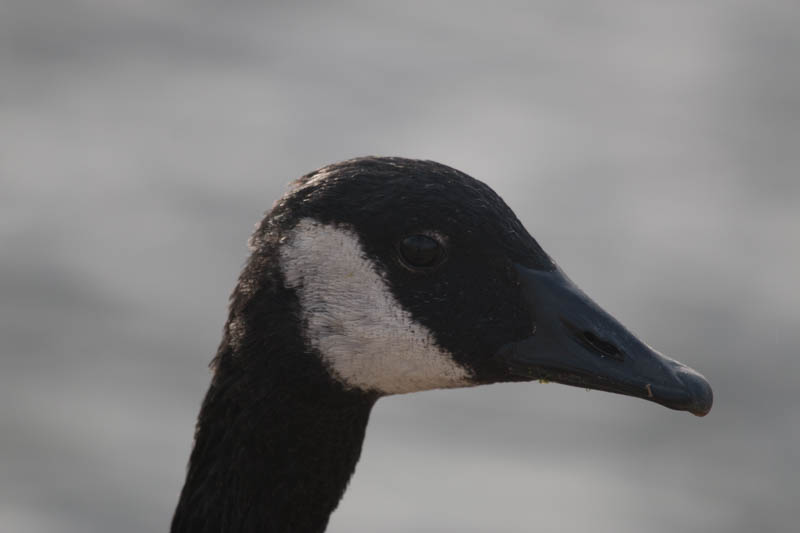goose-head: (228, 156, 712, 418)
